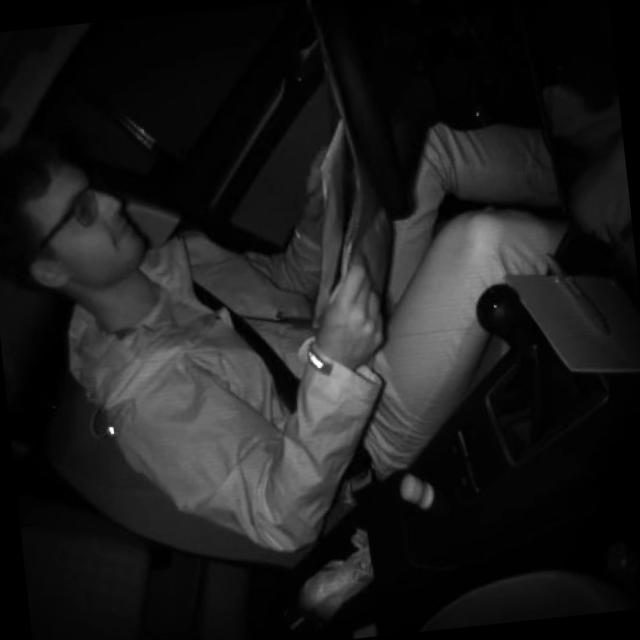pen: (542, 244, 613, 346)
